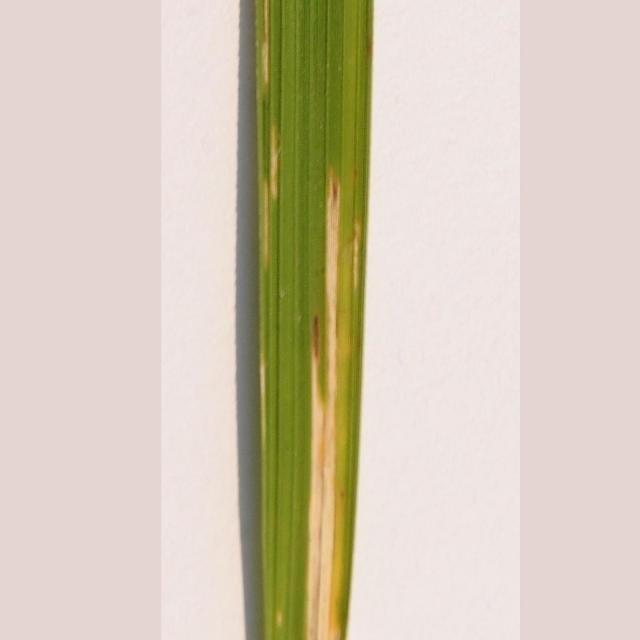leaf blight: (253, 6, 364, 640)
